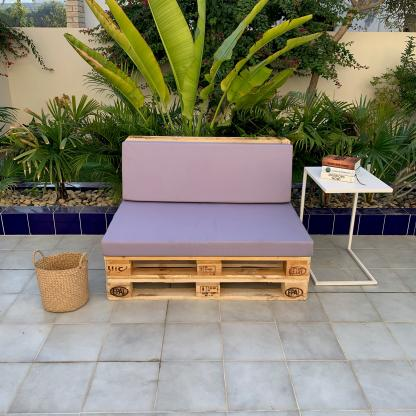BoxFace: (105, 256, 314, 282), (104, 279, 311, 300)
